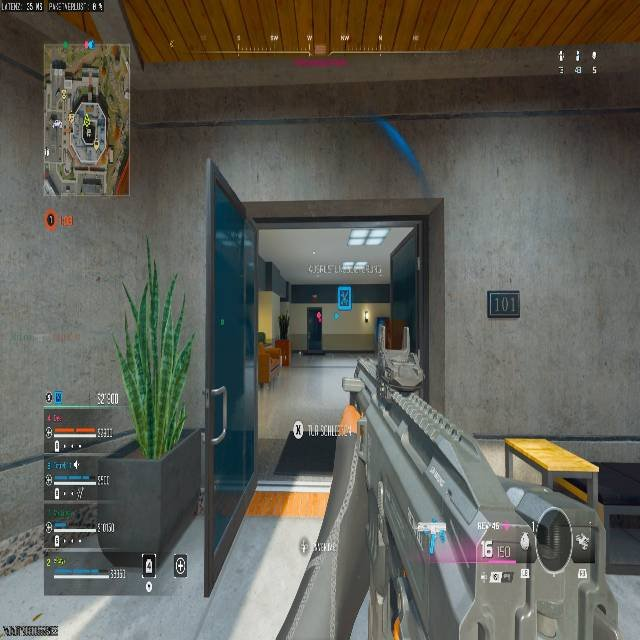player: (304, 307, 325, 356)
